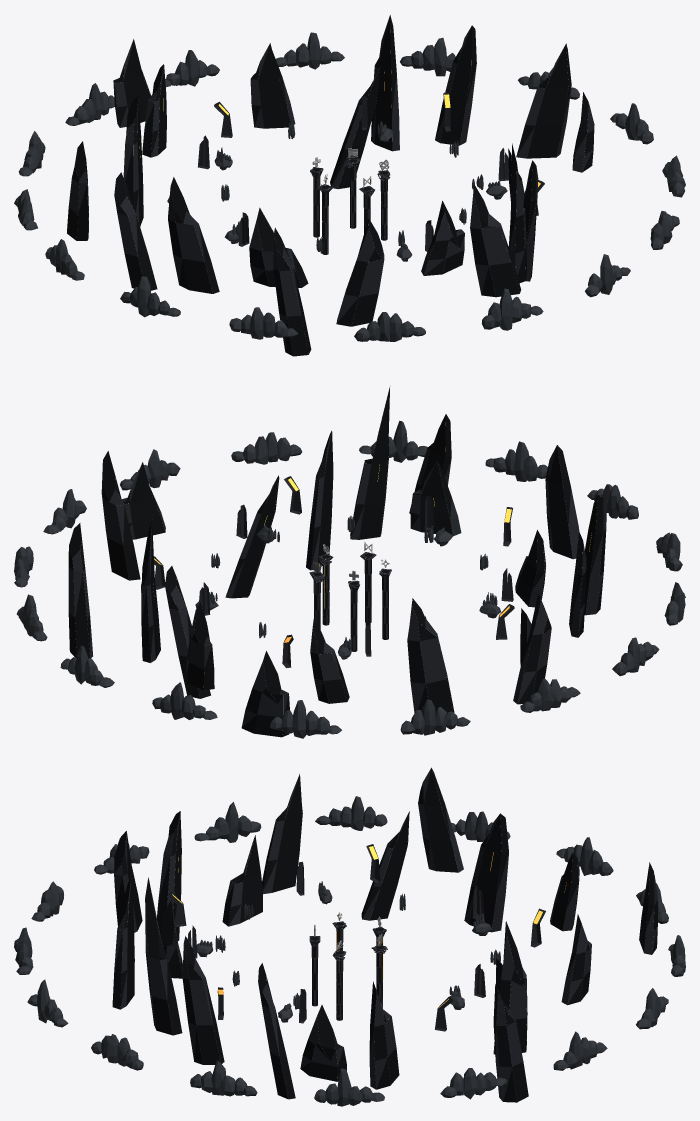
The model's file is world.glb.
The picture shows the model from 3 angles, top to bottom: view 1: azimuth 30°, elevation 25°; view 2: azimuth 150°, elevation 25°; view 3: azimuth 270°, elevation 25°; orthographic projection.
Visible parts, largest first — view 1: MON_07_LOFT, MON_13_LOFT, MON_19_LOFT, MON_16_LOFT, MON_05_LOFT, MON_17_LOFT, MON_02_LOFT, MON_04_LOFT, MON_21_LOFT, MON_14_LOFT, MON_18_LOFT, MON_26_LOFT (+7 smaller); view 2: MON_23_LOFT, MON_12_LOFT, MON_16_LOFT, MON_07_LOFT, MON_05_LOFT, MON_26_LOFT, MON_11_LOFT, MON_22_LOFT, MON_09_LOFT, MON_14_LOFT, MON_17_LOFT, MON_04_LOFT (+7 smaller); view 3: MON_23_LOFT, MON_11_LOFT, MON_12_LOFT, MON_19_LOFT, MON_22_LOFT, MON_05_LOFT, MON_07_LOFT, MON_21_LOFT, MON_08_LOFT, MON_13_LOFT, MON_04_LOFT, MON_18_LOFT (+7 smaller).
Boxes of the visible parts, x1,y1,x2,y2 form: MON_07_LOFT: (516,43,571,158); MON_13_LOFT: (470,184,521,297); MON_19_LOFT: (168,177,219,293); MON_16_LOFT: (336,218,384,326); MON_05_LOFT: (435,25,476,145); MON_17_LOFT: (273,227,311,356); MON_02_LOFT: (250,43,295,128); MON_04_LOFT: (371,15,399,151); MON_21_LOFT: (114,172,157,290); MON_14_LOFT: (421,200,464,275); MON_18_LOFT: (249,207,308,287); MON_26_LOFT: (113,39,150,127); MON_23_LOFT: (407,598,454,712); MON_12_LOFT: (350,385,390,539); MON_16_LOFT: (545,445,579,559); MON_07_LOFT: (101,451,140,580); MON_05_LOFT: (68,523,92,658); MON_26_LOFT: (241,651,289,737); MON_11_LOFT: (306,430,333,570); MON_22_LOFT: (513,593,551,704); MON_09_LOFT: (225,475,279,598); MON_14_LOFT: (410,460,461,535); MON_17_LOFT: (584,494,606,615); MON_04_LOFT: (141,520,160,662); MON_23_LOFT: (464,813,508,932); MON_11_LOFT: (182,936,224,1064); MON_12_LOFT: (145,877,182,1035); MON_19_LOFT: (262,774,302,894); MON_22_LOFT: (418,767,463,872); MON_05_LOFT: (493,984,528,1102); MON_07_LOFT: (369,981,399,1089); MON_21_LOFT: (361,811,409,920); MON_08_LOFT: (300,1005,346,1081); MON_13_LOFT: (112,877,134,1009); MON_04_LOFT: (493,921,527,1054); MON_18_LOFT: (222,835,262,926).
Size of the model in its own units: 659 by 192 by 657.
Materials: 16 (7 with a texture image).
